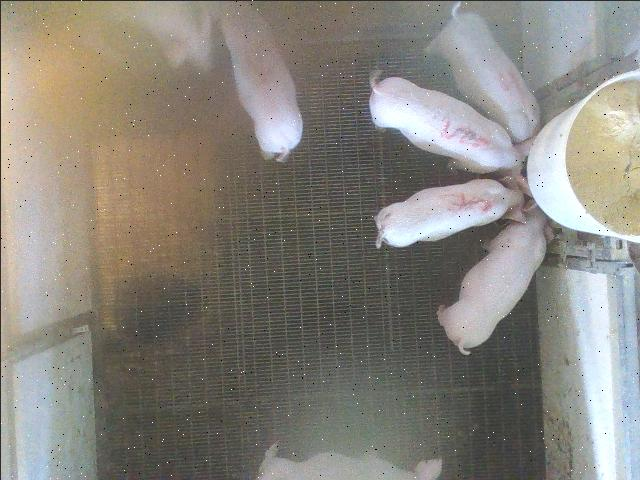pig-1: (219, 1, 301, 160)
pig-3: (369, 77, 531, 174)
pig-4: (425, 3, 539, 141)
pig-5: (374, 174, 529, 248)
